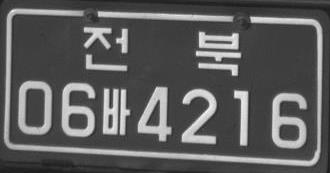0: (17, 80, 52, 135)
1: (227, 88, 261, 146)
2: (180, 88, 217, 144)
4: (137, 85, 171, 141)
6: (270, 91, 308, 149), (60, 81, 94, 137)
바: (101, 87, 130, 134)
전북_D: (83, 26, 242, 76)
